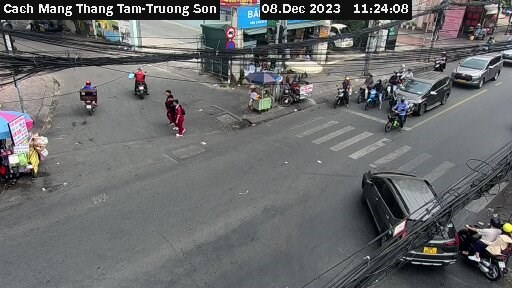car: (359, 168, 457, 266), (390, 72, 451, 116), (455, 48, 503, 92), (498, 38, 512, 66)
motorbike: (458, 211, 512, 280), (67, 82, 110, 117), (379, 97, 412, 136), (125, 71, 157, 99), (333, 79, 360, 111), (365, 80, 387, 103)
